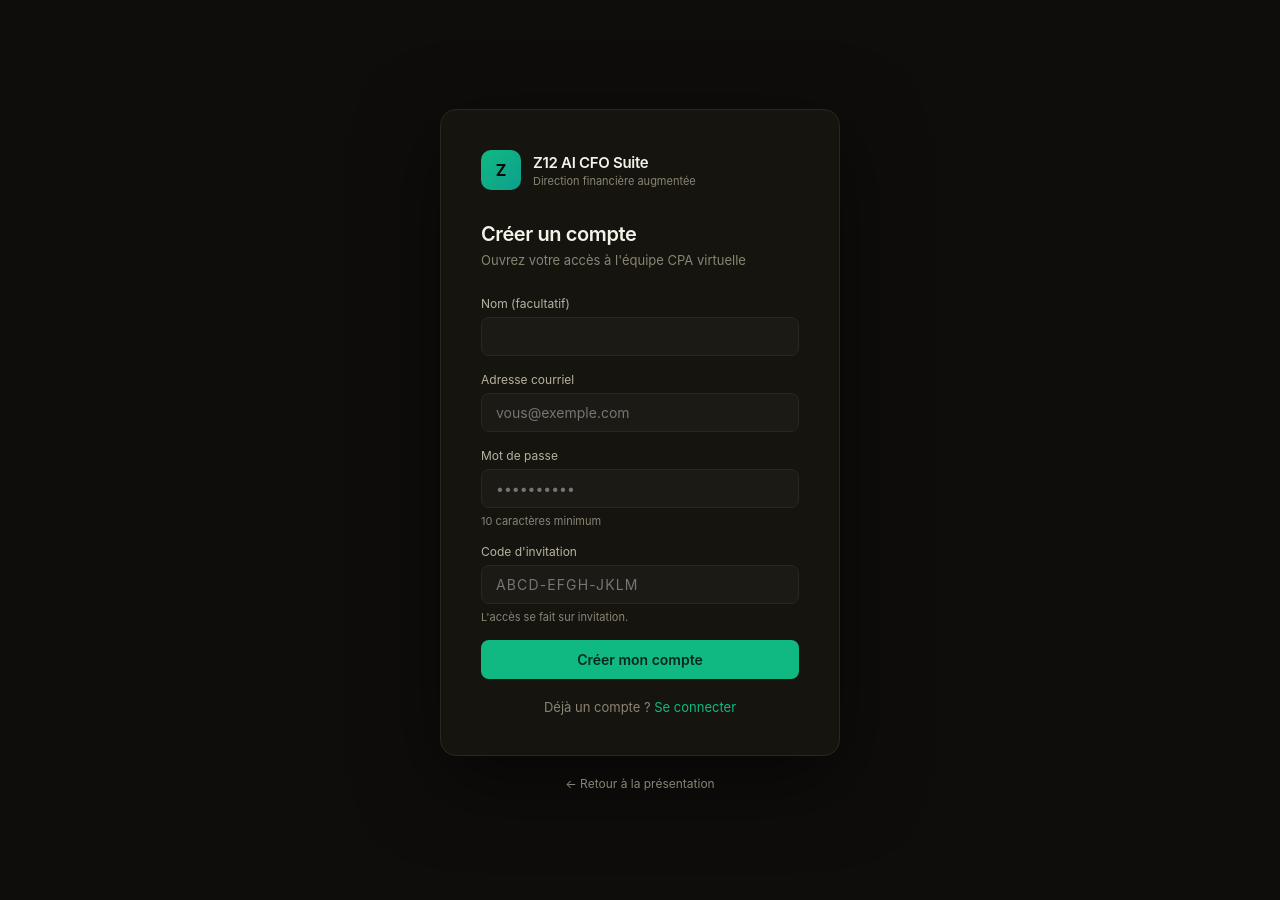
Test: entry flow › shows the sign-up form on /register and opens the Studio after registering
The width and height of the screenshot is (1280, 900).
Expected: the heading "Créer un compte" is shown, [481, 222, 636, 246]
Type "nouveau@exemple.ca" into the field labelled "Adresse courriel". click: (640, 412)
box: [481, 393, 799, 432]
Type "court" into the password field labelled "Mot de passe". click: (640, 488)
box: [481, 469, 799, 508]
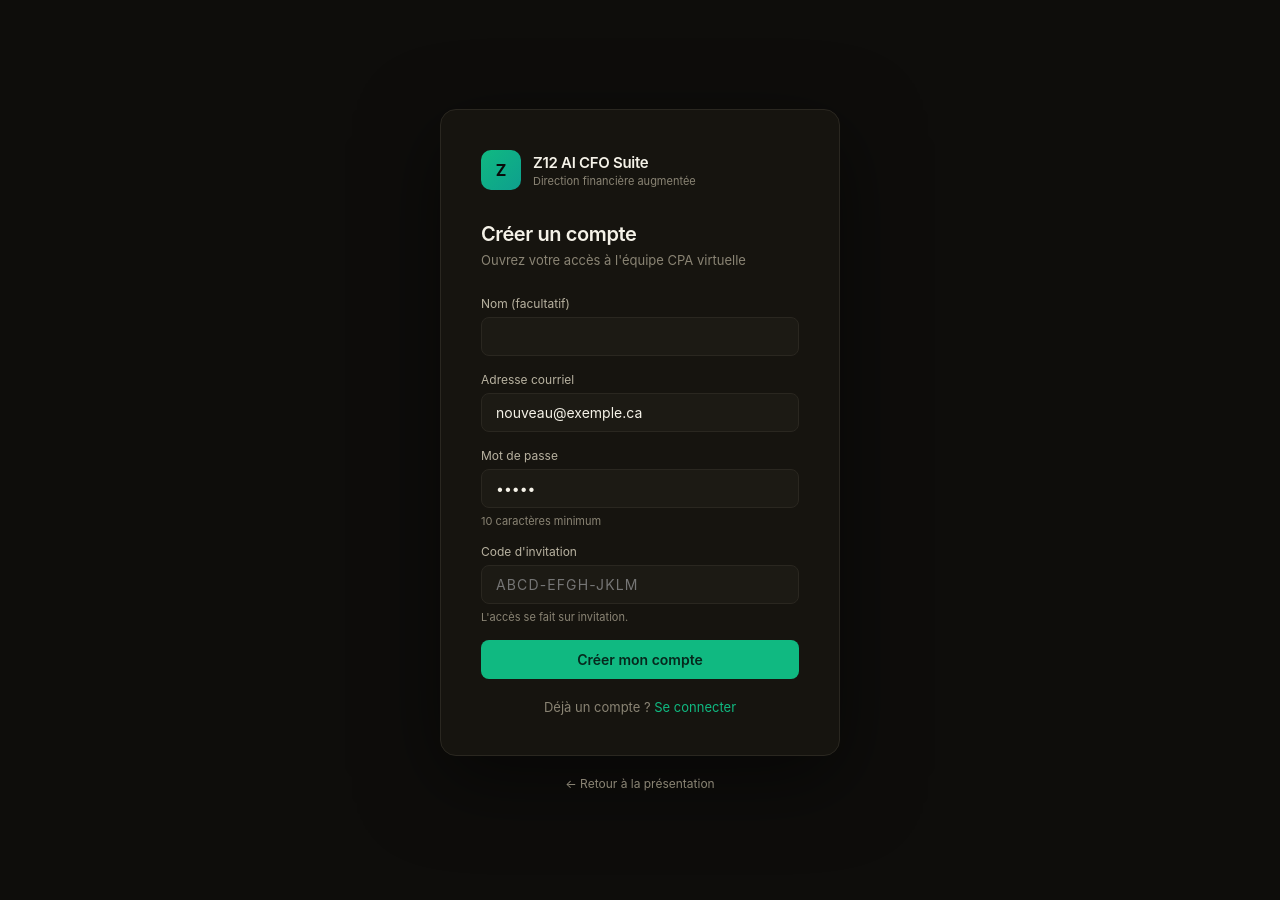
Click the button "Créer mon compte". click: (640, 660)
box: [481, 640, 799, 679]
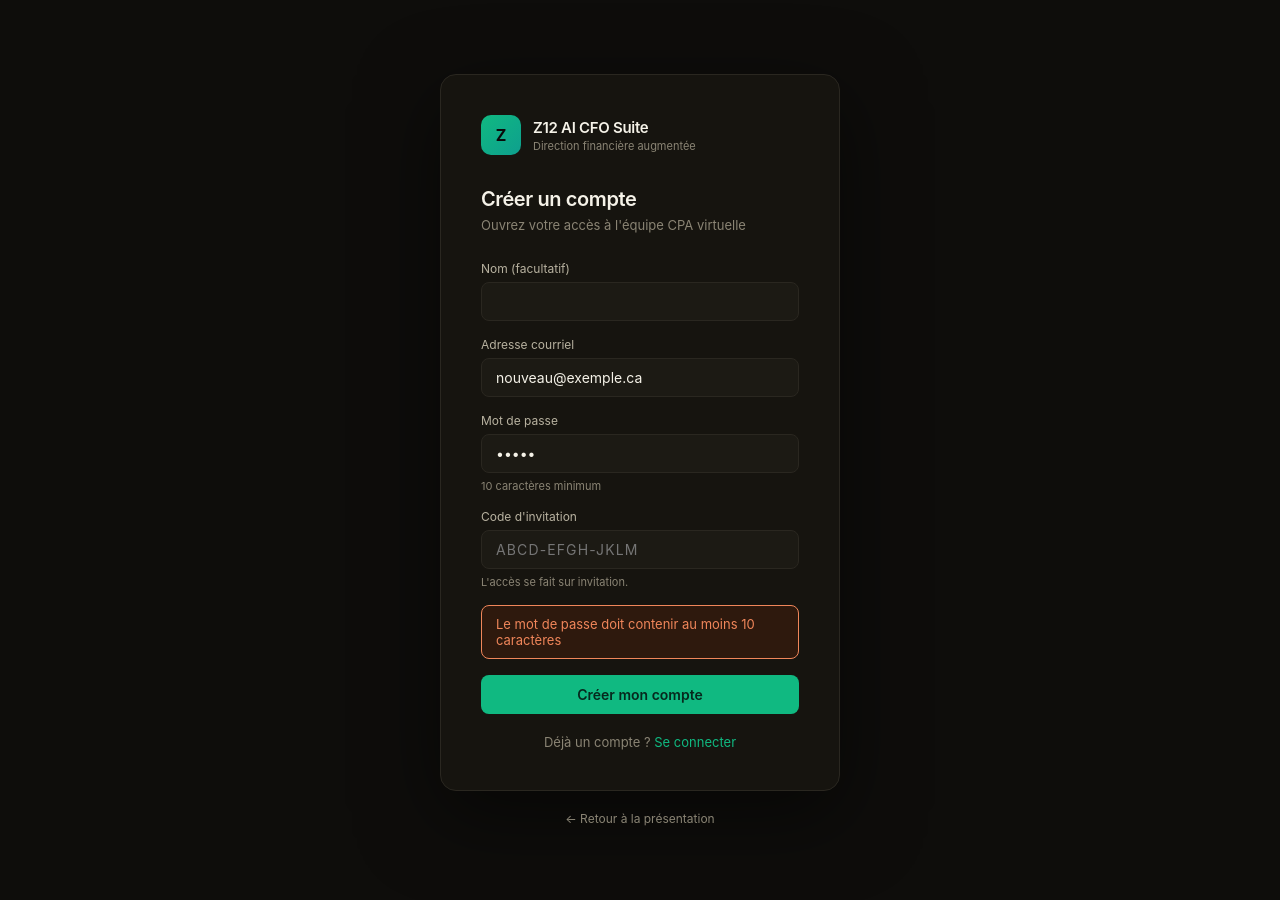
Result: the message shows "10 caractères" at [496, 616, 755, 648]
// Inscription sur invitation : sans code, rien n'est envoyé au serveur.
Type "motdepasse-solide" into the password field labelled "Mot de passe". click: (640, 454)
box: [481, 434, 799, 473]
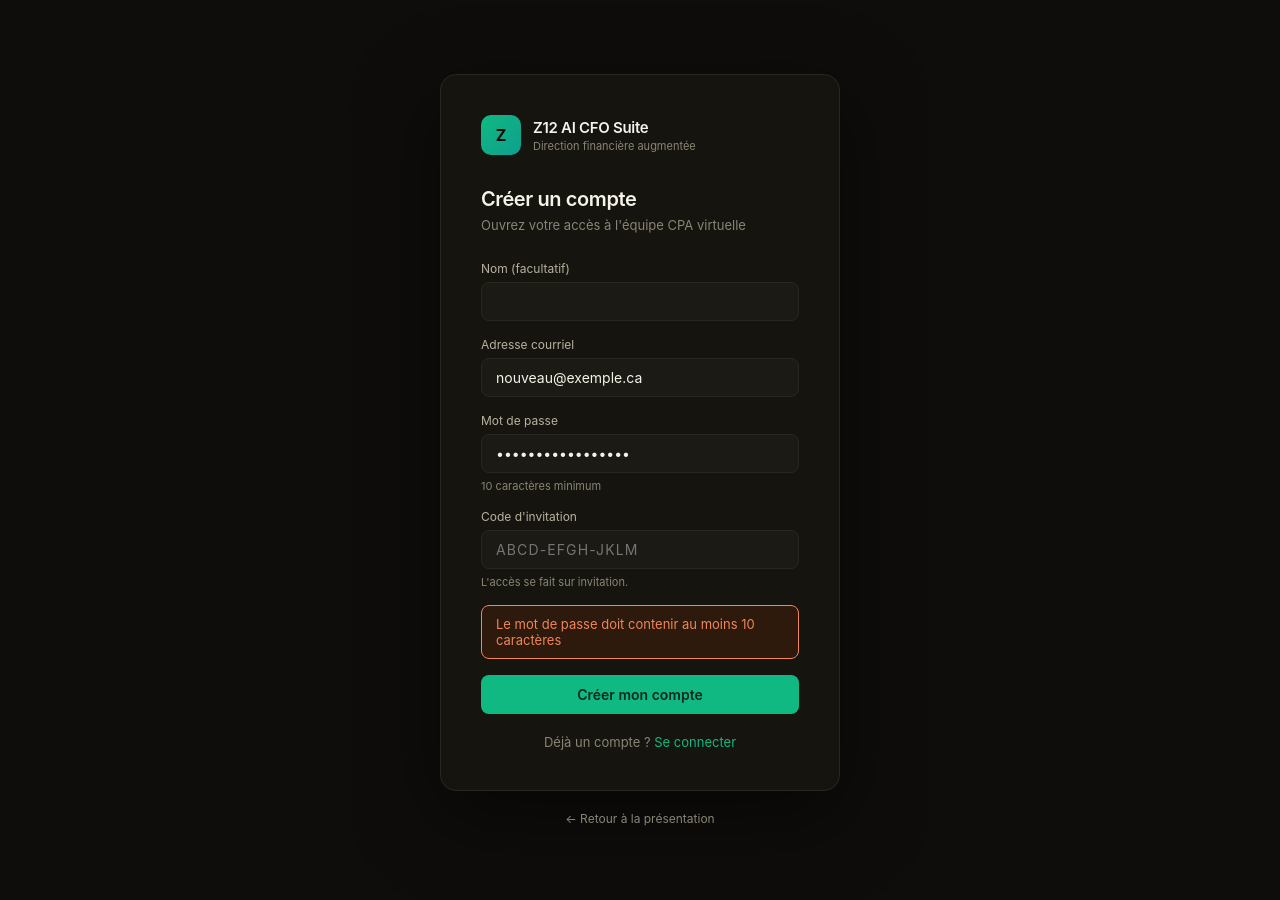
Click the button "Créer mon compte". click: (640, 694)
box: [481, 675, 799, 714]
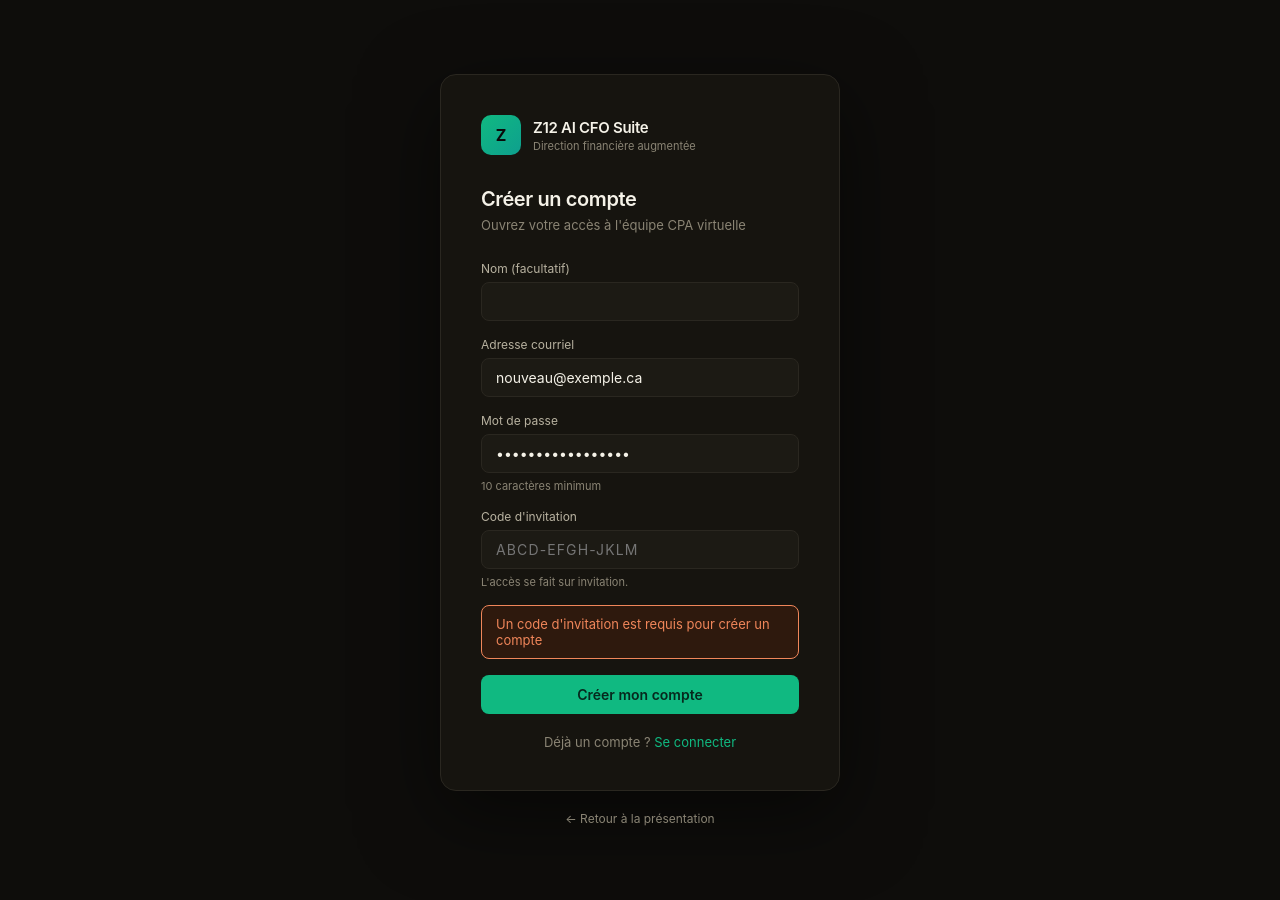
Result: the message shows "code d'invitation" at [496, 616, 770, 648]
Type " abcd-efgh-jklm " into the field labelled "Code d'invitation". click: (640, 550)
box: [481, 530, 799, 569]
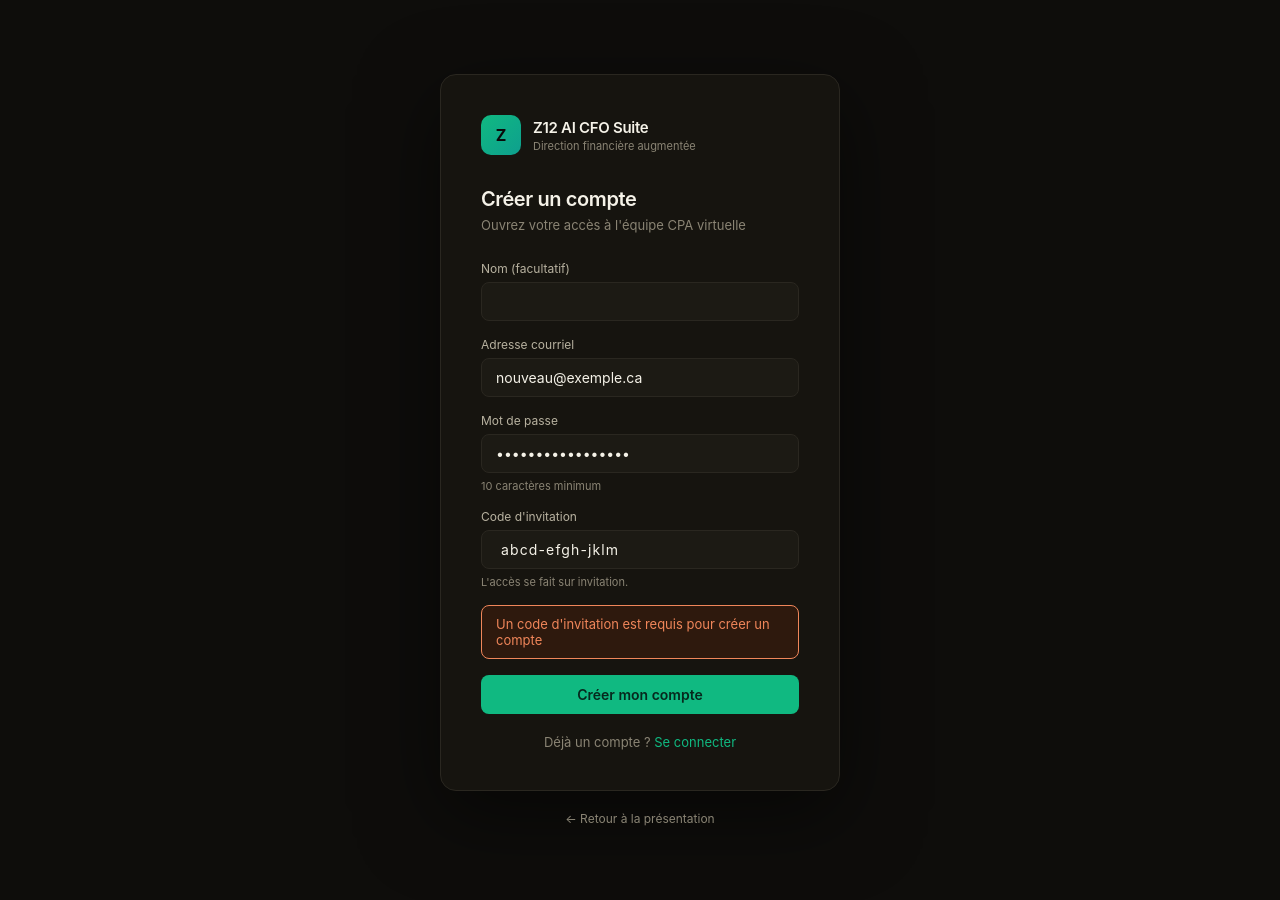
Click the button "Créer mon compte". click: (640, 694)
box: [481, 675, 799, 714]
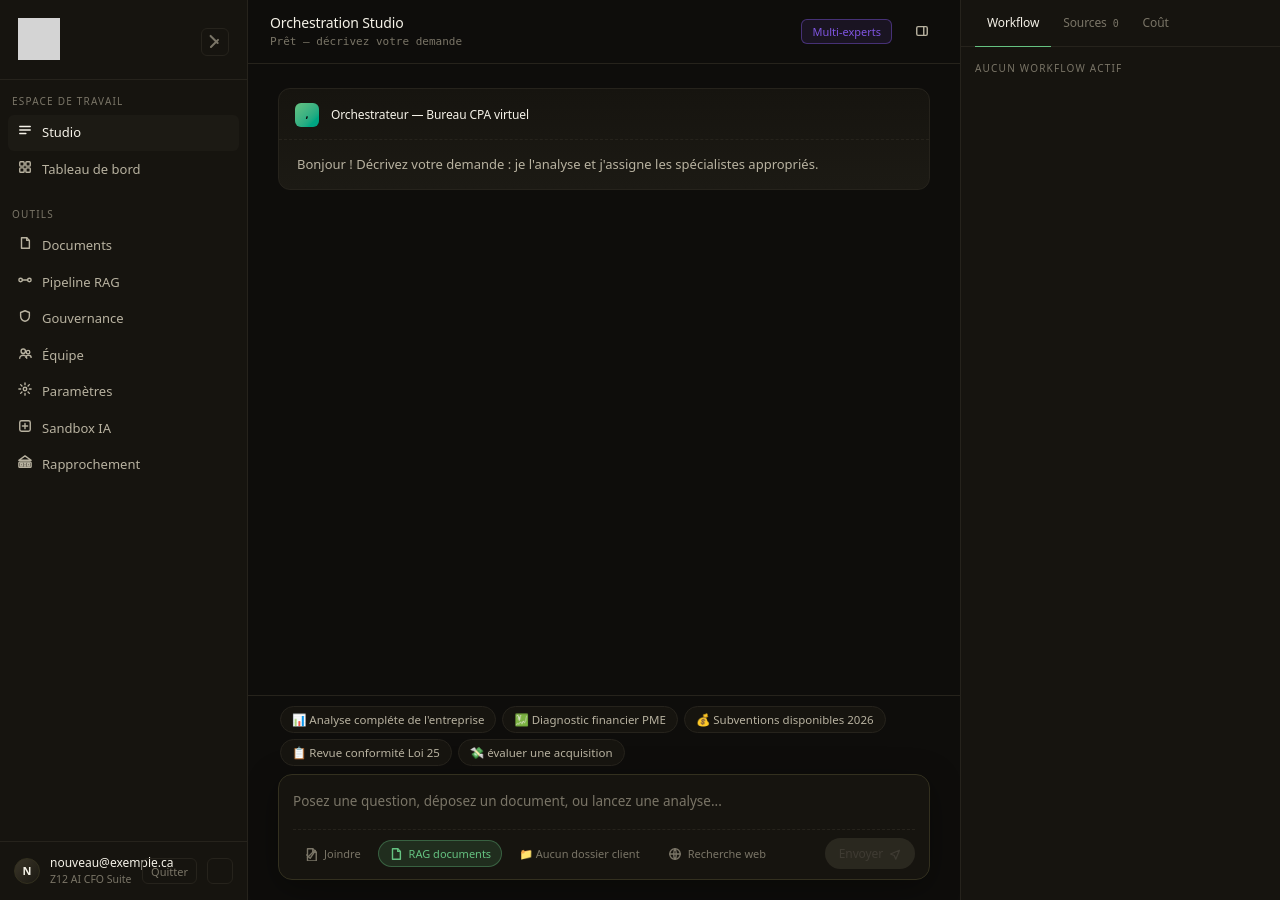
Result: the element with class "roster-foot" is shown at [0, 841, 247, 899]
